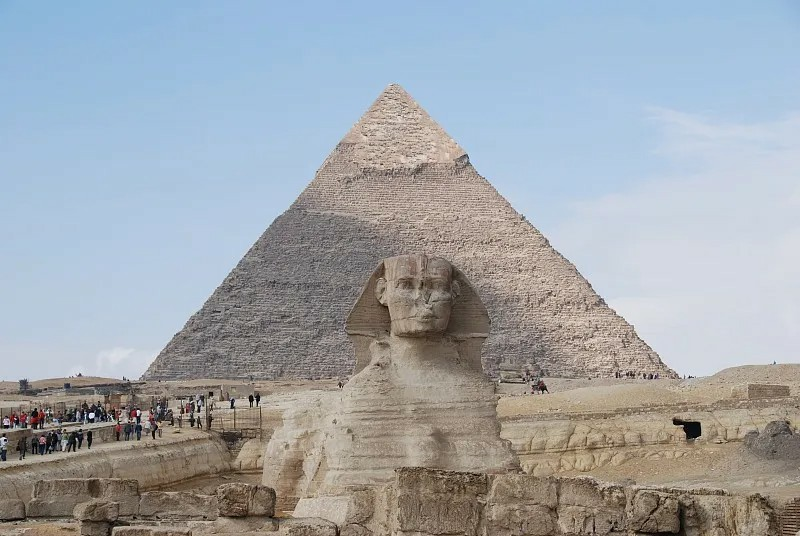Pyramid: (137, 83, 683, 385)
